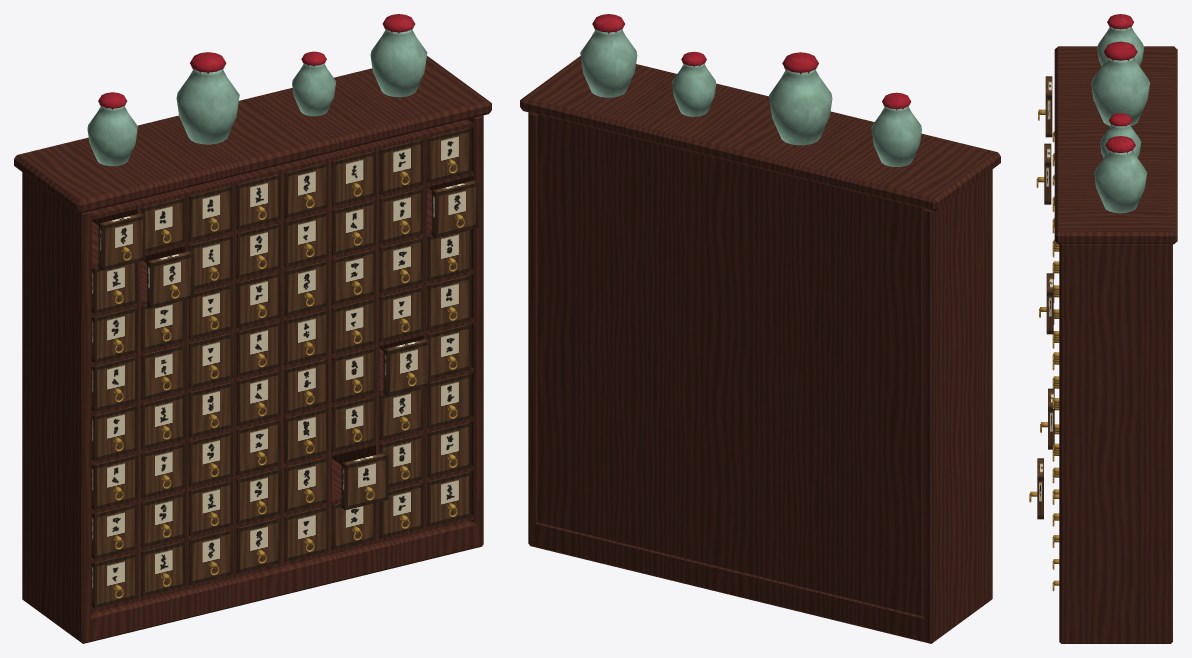
Rendered from medicine_cabinet.glb.
3 views of the same model, side by side, from view 1: azimuth 30°, elevation 25°; view 2: azimuth 150°, elevation 25°; view 3: azimuth 270°, elevation 25° (orthographic). The views are drawn at different scales.
Parts seen in each view (by area): view 1: Drawers, CabinetCarcass, HerbJars, DrawerPulls, JarCloths; view 2: CabinetCarcass, HerbJars, JarCloths; view 3: CabinetCarcass, HerbJars, Drawers, DrawerPulls, JarCloths.
Part boxes in pixels (box(x1,y1,x2,y2)): Drawers: box(91, 127, 478, 608); CabinetCarcass: box(14, 56, 491, 643); HerbJars: box(87, 26, 427, 166); DrawerPulls: box(113, 159, 465, 598); JarCloths: box(98, 14, 415, 109); CabinetCarcass: box(520, 56, 1000, 643); HerbJars: box(580, 27, 921, 166); JarCloths: box(592, 14, 911, 110); CabinetCarcass: box(1054, 46, 1177, 643); HerbJars: box(1091, 25, 1149, 213); Drawers: box(1037, 76, 1054, 519); DrawerPulls: box(1029, 109, 1059, 591); JarCloths: box(1104, 14, 1137, 153).
Size of what is drawn, in the model's own units: 1.96 by 2.38 by 0.6509.
Materials: 5 (5 with a texture image).
